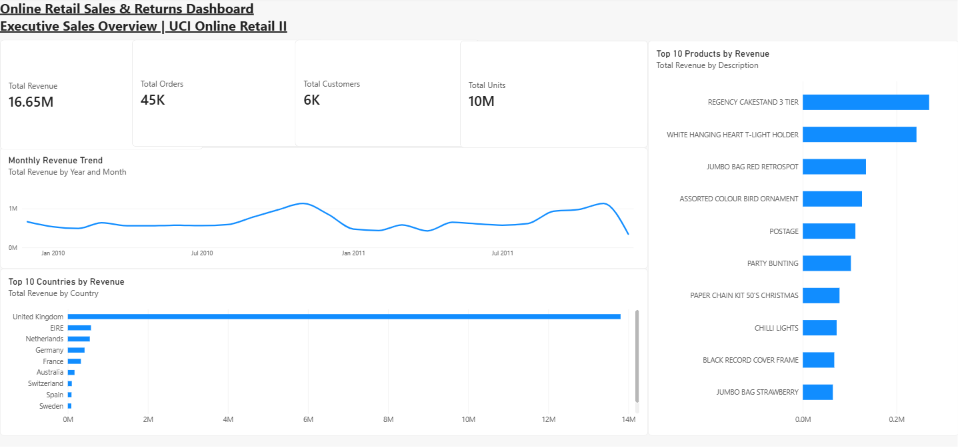

The page's visual inventory and layout, read from the dashboard file:
{"tool":"powerbi","page":{"name":"Executive Sales Overview | UCI Online Retail II","canvas":[1920,1080],"ordinal":0},"visuals":[{"type":"lineChart","title":"Monthly Revenue Trend","fields":{"Category":["Sales.Date.Variation.Date Hierarchy.Year","Sales.Date.Variation.Date Hierarchy.Month"],"Y":["Sales.Total Revenue 2"]},"box":[0,298,1296,242],"z":0},{"type":"cardVisual","fields":{"Data":["Sales.Total Revenue 2"]},"box":[0,82,406,220],"z":1},{"type":"cardVisual","fields":{"Data":["Sales.Total Orders"]},"box":[264,82,384,214],"z":2},{"type":"cardVisual","fields":{"Data":["Sales.Total Customers"]},"box":[590,82,370,214],"z":3},{"type":"cardVisual","fields":{"Data":["Sales.Total Units"]},"box":[920,84,376,214],"z":4},{"type":"clusteredBarChart","title":"Top 10 Countries by Revenue","fields":{"Category":["Sales.Country"],"Y":["Sales.Total Revenue 2"]},"box":[0,540,1296,334],"z":5},{"type":"clusteredBarChart","title":"Top 10 Products by Revenue","fields":{"Category":["Sales.Description"],"Y":["Sales.Total Revenue 2"]},"box":[1296,84,624,790],"z":6},{"type":"textbox","box":[1770,16,150,394],"z":7},{"type":"textbox","box":[0,0,1326,82],"z":8}]}

Visuals, with their boxes on the page's 1920x1080 design canvas (x1, y1, x2, y2). These are canvas units, not pixel positions in the 958x447 screenshot, which may show the page scaled, cropped or inside an application window:
"Monthly Revenue Trend" lineChart: select_region(0, 298, 1296, 540)
cardVisual - Sales.Total Revenue 2: select_region(0, 82, 406, 302)
cardVisual - Sales.Total Orders: select_region(264, 82, 648, 296)
cardVisual - Sales.Total Customers: select_region(590, 82, 960, 296)
cardVisual - Sales.Total Units: select_region(920, 84, 1296, 298)
"Top 10 Countries by Revenue" clusteredBarChart: select_region(0, 540, 1296, 874)
"Top 10 Products by Revenue" clusteredBarChart: select_region(1296, 84, 1920, 874)
textbox: select_region(1770, 16, 1920, 410)
textbox: select_region(0, 0, 1326, 82)
